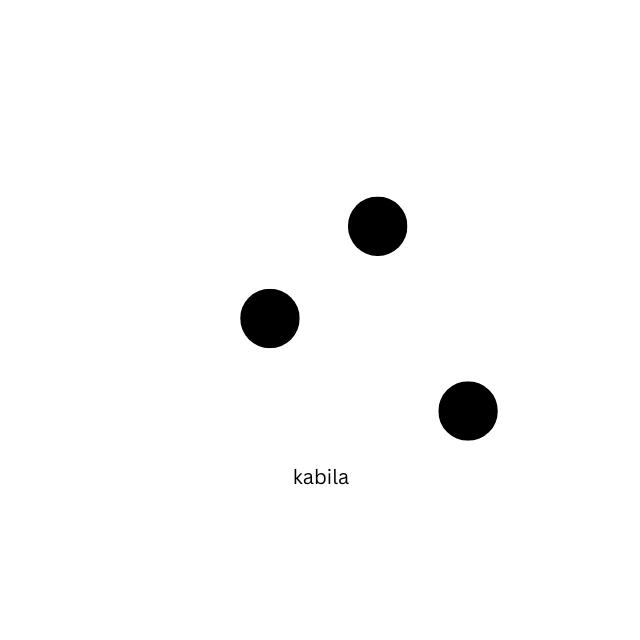dot_5: (151, 194, 301, 441)
two_cell_non_alphabet_kabila: (345, 196, 500, 443)
